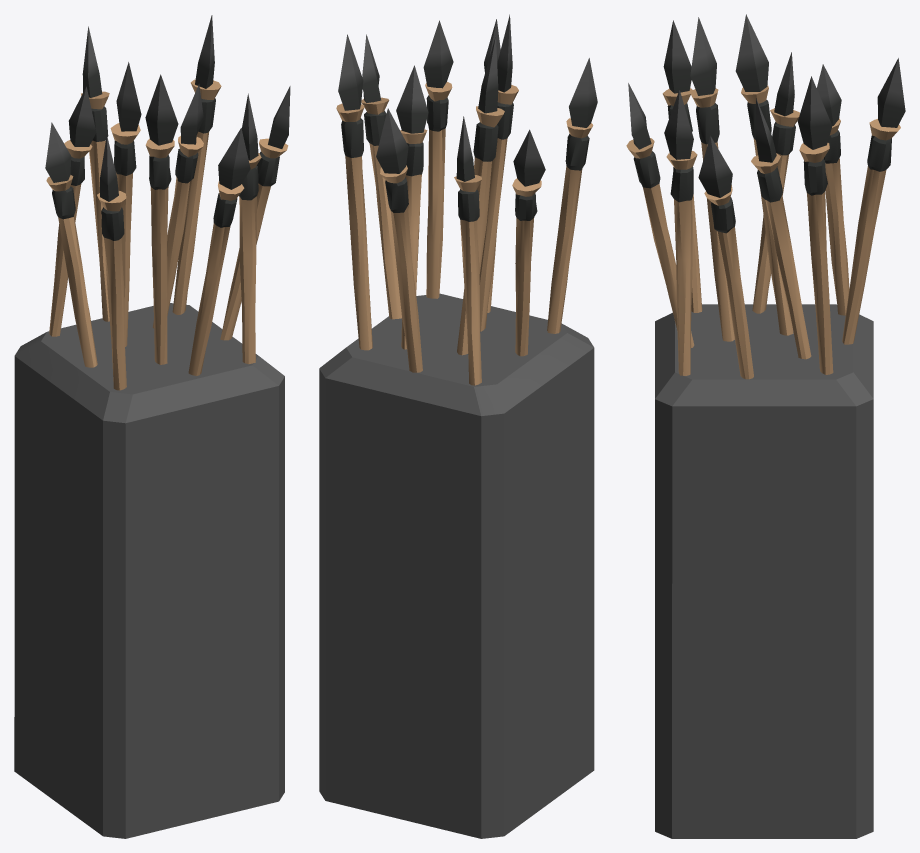
File: spiketrap.fbx
The picture shows the model from 3 angles, left to right: view 1: azimuth 30°, elevation 25°; view 2: azimuth 150°, elevation 25°; view 3: azimuth 270°, elevation 25°; orthographic projection. The views are drawn at different scales.
Visible parts, largest first — view 1: spiketrap_LOD0; view 2: spiketrap_LOD0; view 3: spiketrap_LOD0.
Boxes of the visible parts, <box> form: spiketrap_LOD0: <box>14,15,290,838</box>; spiketrap_LOD0: <box>319,14,597,838</box>; spiketrap_LOD0: <box>626,14,905,838</box>.
Size of what is drawn, in the model's own units: 2.32 by 7.73 by 2.55.
